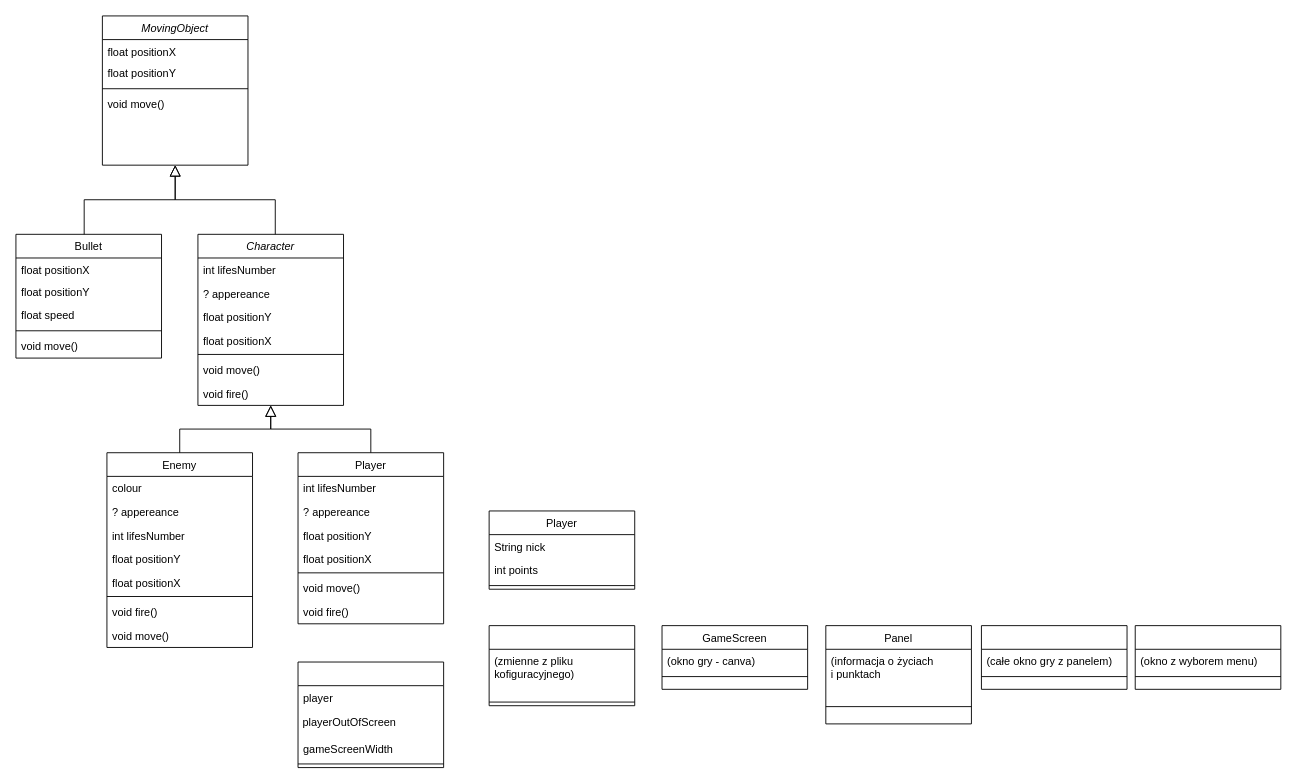
Image size: 1297x784. Some labels were removed from this diagram. Here are the shapes that lost their labels. From the top down, the box of each, then its label:
(488, 625, 635, 706): Configer
(981, 625, 1127, 689): MainWindow
(1134, 625, 1281, 689): MenuWindow
(297, 661, 444, 768): BeyondBoard
